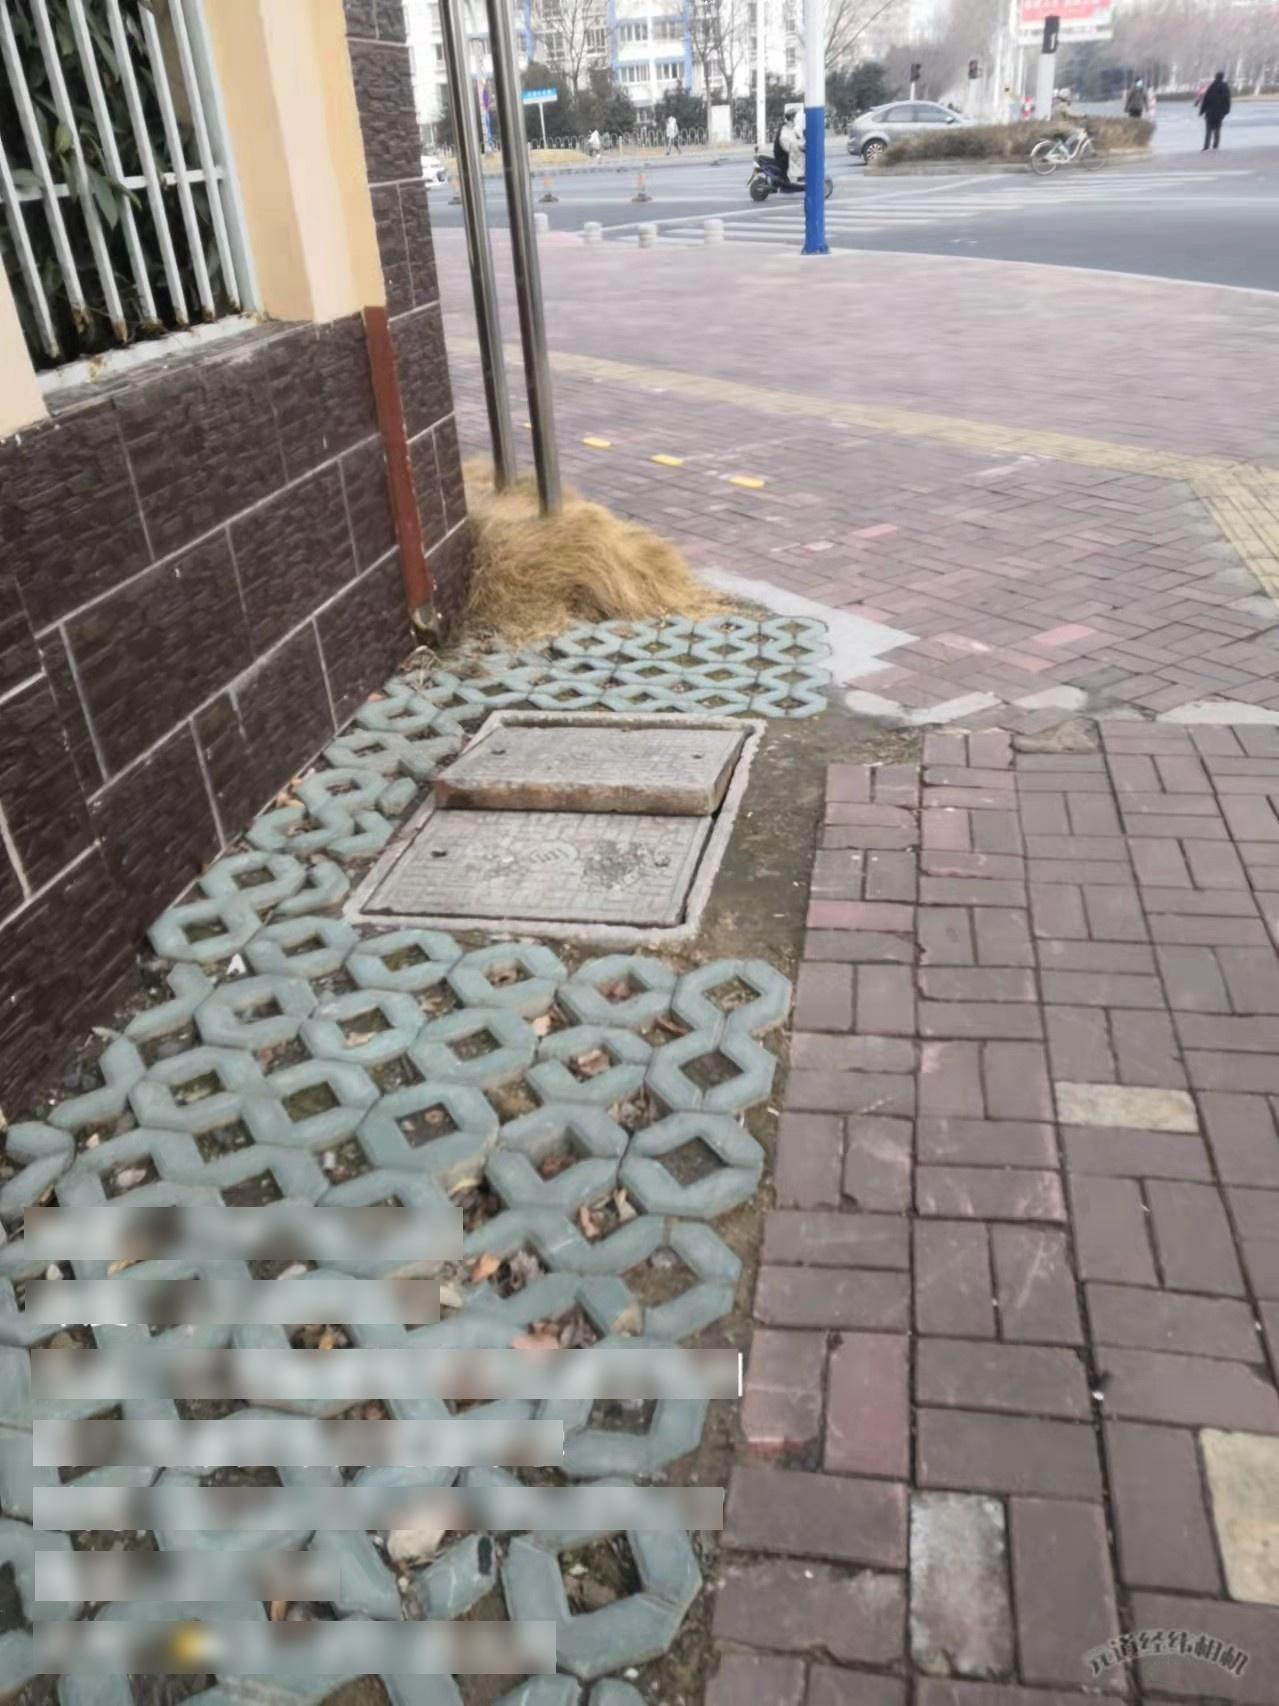wellcover: (341, 672, 768, 956)
